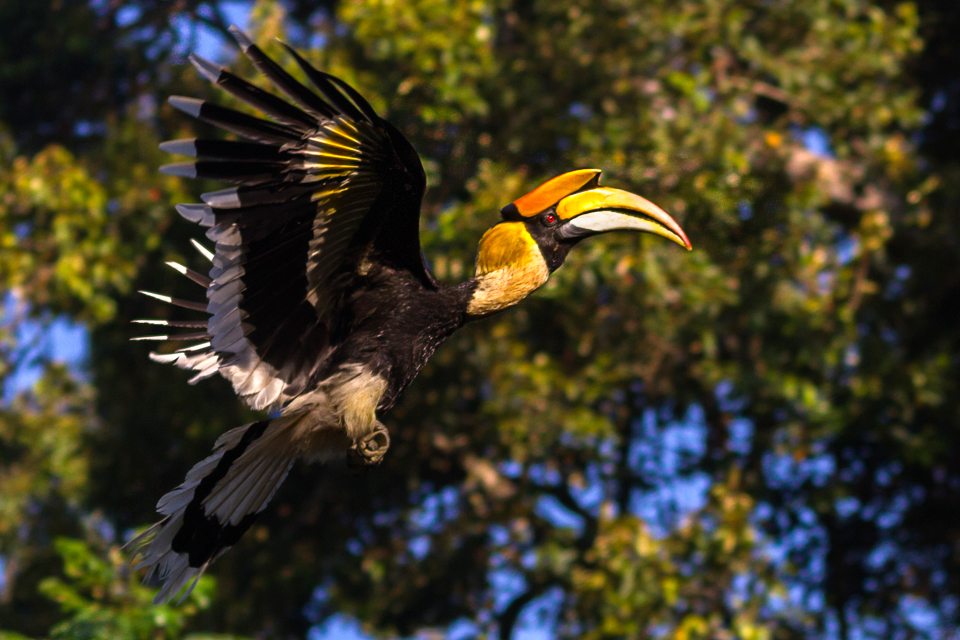bird: (101, 38, 715, 617)
